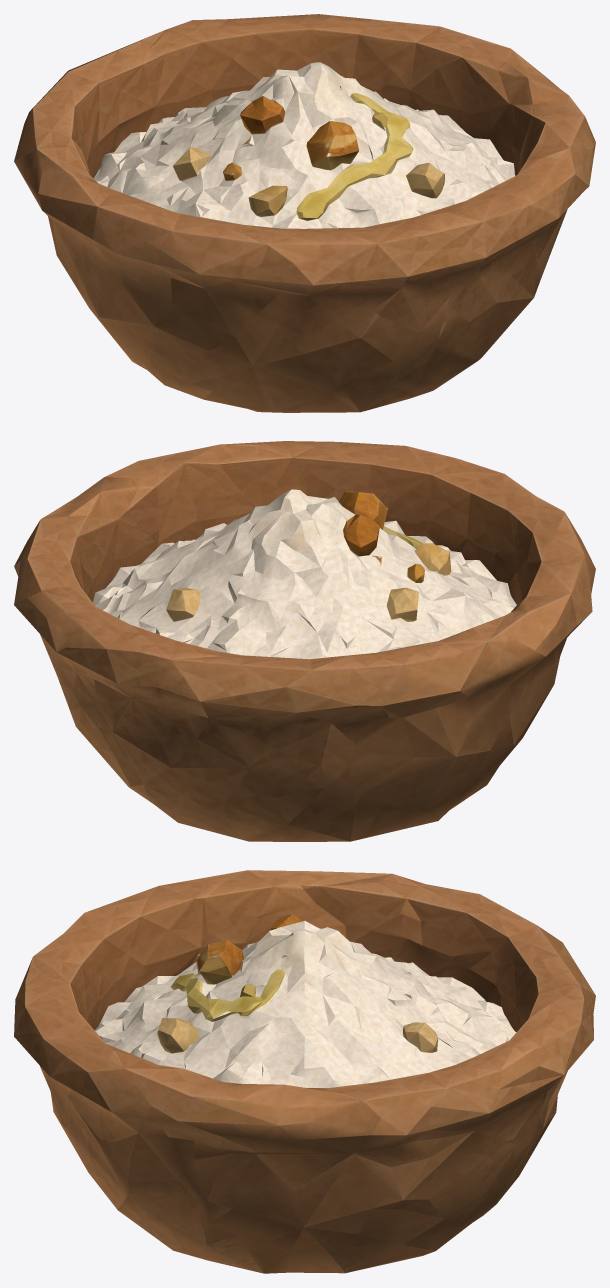
The model's file is flour-bowl.glb.
3 renders of one model, top to bottom at view 1: azimuth 30°, elevation 25°; view 2: azimuth 150°, elevation 25°; view 3: azimuth 270°, elevation 25°, orthographic.
Size of the model in its own units: 1.9 by 1.02 by 1.89.
1 material, 1 textured.
